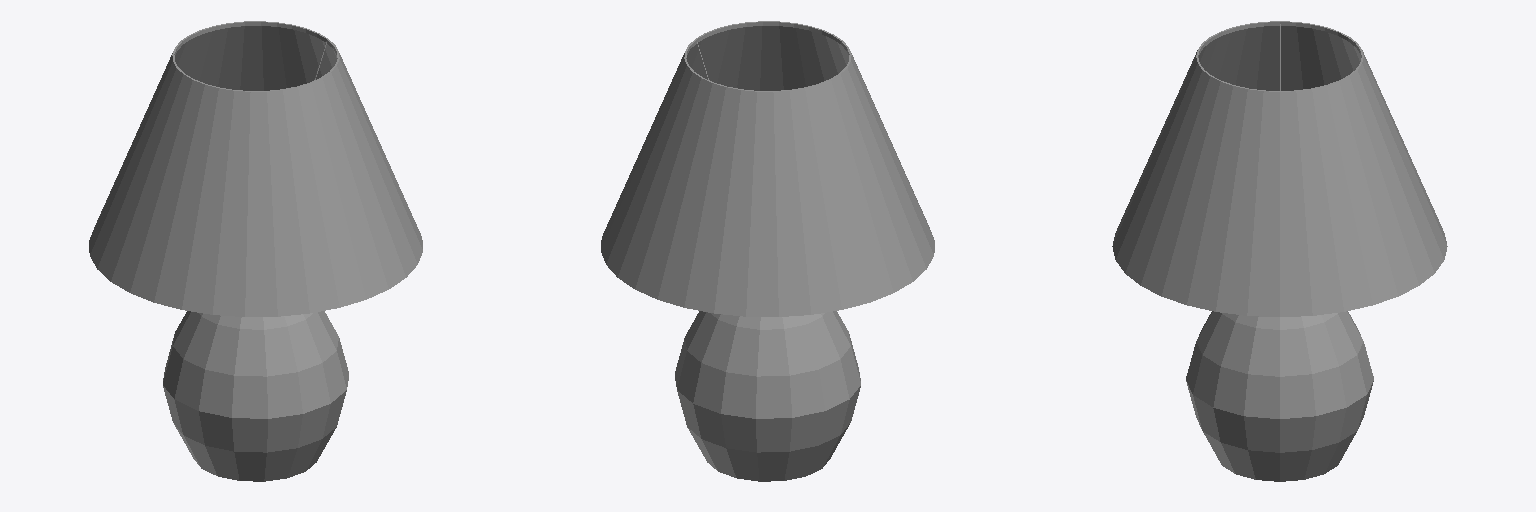
File: lamp.obj
3 renders of one model, left to right at view 1: azimuth 30°, elevation 25°; view 2: azimuth 150°, elevation 25°; view 3: azimuth 270°, elevation 25°, orthographic.
Visible parts, largest first — view 1: Lamp_B1; view 2: Lamp_B1; view 3: Lamp_B1.
Part boxes in pixels (bbox=[...]): Lamp_B1: bbox=[89, 21, 422, 481]; Lamp_B1: bbox=[601, 21, 934, 481]; Lamp_B1: bbox=[1112, 21, 1447, 481].
Size of the model in its own units: 0.32 by 0.42 by 0.32.